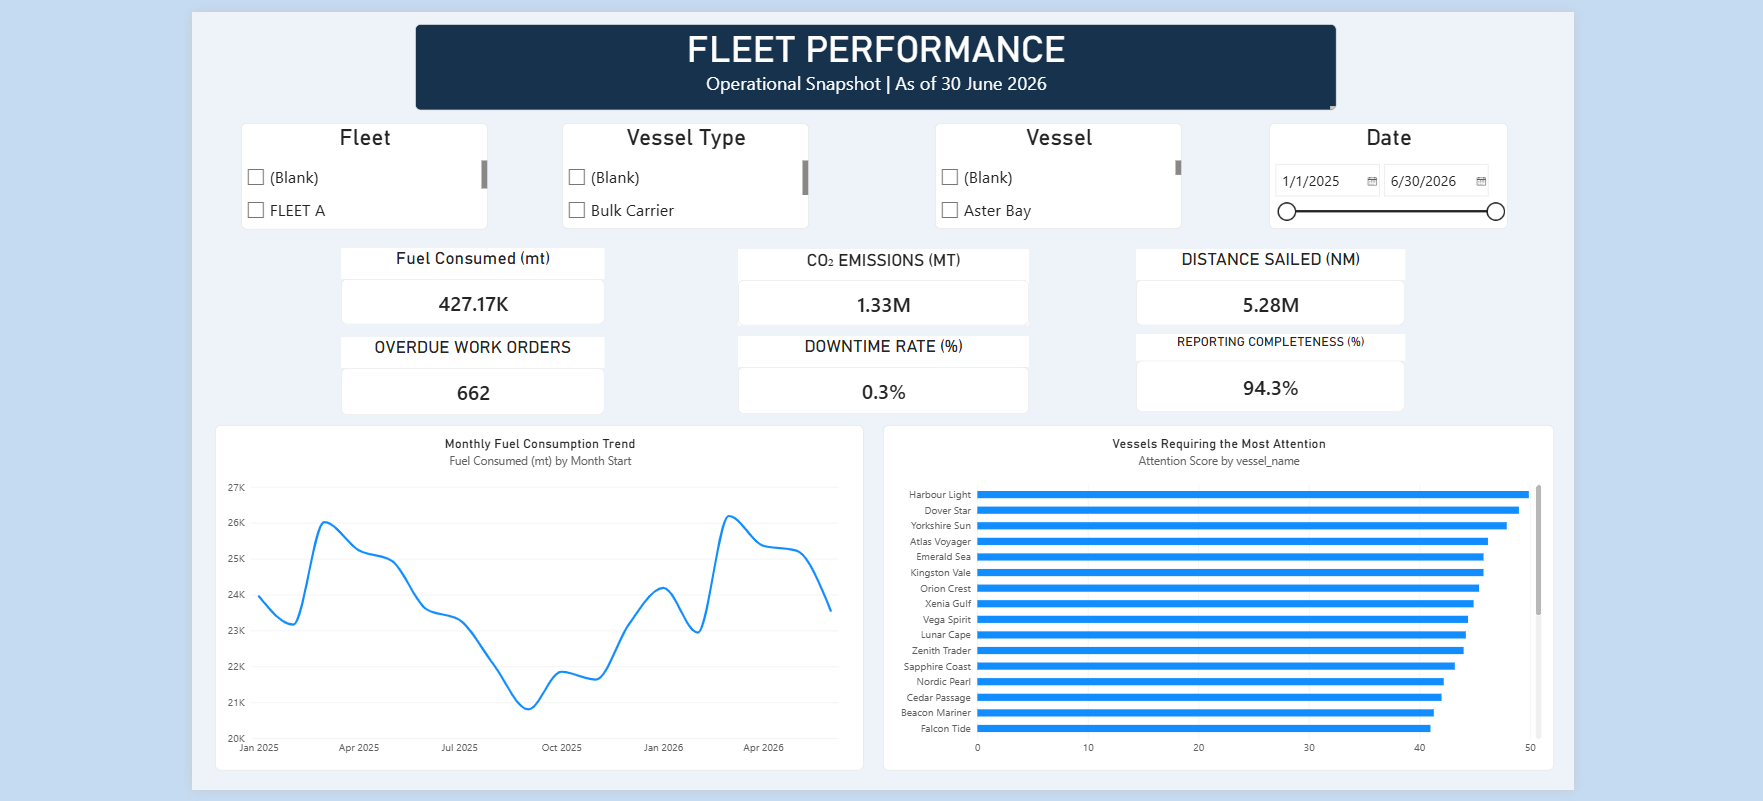

What the dashboard file says about the page in this screenshot:
{"tool":"powerbi","page":{"name":"Fleet Overview","canvas":[1920,1080],"ordinal":0},"visuals":[{"type":"cardVisual","title":"Fuel Consumed (mt)","fields":{"Data":["_Measures.Fuel Consumed (mt)"]},"box":[207.2,328.3,366.2,106.2],"z":0},{"type":"cardVisual","title":"CO₂ EMISSIONS (MT)","fields":{"Data":["_Measures.CO2 Emissions (mt)"]},"box":[758.7,329.7,404.1,106.2],"z":1000},{"type":"cardVisual","title":"DISTANCE SAILED (NM)","fields":{"Data":["_Measures.Distance (nm)"]},"box":[1311.6,329.7,373.8,106.2],"z":2000},{"type":"cardVisual","title":"OVERDUE WORK ORDERS","fields":{"Data":["_Measures.Overdue WOs"]},"box":[207.2,450.8,366.2,108.1],"z":3000},{"type":"cardVisual","title":"DOWNTIME RATE (%)","fields":{"Data":["_Measures.Downtime %"]},"box":[758.7,449.4,404.1,108.1],"z":4000},{"type":"cardVisual","title":"REPORTING COMPLETENESS (%)","fields":{"Data":["_Measures.Reporting Completeness %"]},"box":[1311.6,447.9,373.8,108.1],"z":5000},{"type":"textbox","title":"FLEET PERFORMANCE","box":[309.3,16,1280,120],"z":5001},{"type":"lineChart","title":"Monthly Fuel Consumption Trend","fields":{"Category":["dim_date.Month Start"],"Y":["_Measures.Fuel Consumed (mt)"]},"box":[32.3,573,901.2,480],"z":5002},{"type":"clusteredBarChart","title":"Vessels Requiring the Most Attention","fields":{"Category":["dim_vessel.vessel_name"],"Y":["_Measures.Attention Score"]},"box":[960,573,931.5,480],"z":5003},{"type":"slicer","title":"Fleet","fields":{"Values":["dim_vessel.fleet"]},"box":[68.6,154.7,343.4,148],"z":5004},{"type":"slicer","title":"Vessel Type","fields":{"Values":["dim_vessel.vessel_type"]},"box":[513.6,154.7,343.3,147],"z":5005},{"type":"slicer","title":"Vessel","fields":{"Values":["dim_vessel.vessel_name"]},"box":[1031.5,154.7,343,147],"z":5006},{"type":"slicer","title":"Date","fields":{"Values":["dim_date.Date"]},"box":[1495.4,154.7,331.7,146.7],"z":5007}]}

Visuals, with their boxes on the page's 1920x1080 design canvas (x1, y1, x2, y2). These are canvas units, not pixel positions in the 1763x801 screenshot, which may show the page scaled, cropped or inside an application window:
"Fuel Consumed (mt)" cardVisual: x1=207, y1=328, x2=573, y2=434
"CO₂ EMISSIONS (MT)" cardVisual: x1=759, y1=330, x2=1163, y2=436
"DISTANCE SAILED (NM)" cardVisual: x1=1312, y1=330, x2=1685, y2=436
"OVERDUE WORK ORDERS" cardVisual: x1=207, y1=451, x2=573, y2=559
"DOWNTIME RATE (%)" cardVisual: x1=759, y1=449, x2=1163, y2=558
"REPORTING COMPLETENESS (%)" cardVisual: x1=1312, y1=448, x2=1685, y2=556
"FLEET PERFORMANCE" textbox: x1=309, y1=16, x2=1589, y2=136
"Monthly Fuel Consumption Trend" lineChart: x1=32, y1=573, x2=934, y2=1053
"Vessels Requiring the Most Attention" clusteredBarChart: x1=960, y1=573, x2=1892, y2=1053
"Fleet" slicer: x1=69, y1=155, x2=412, y2=303
"Vessel Type" slicer: x1=514, y1=155, x2=857, y2=302
"Vessel" slicer: x1=1032, y1=155, x2=1374, y2=302
"Date" slicer: x1=1495, y1=155, x2=1827, y2=301
